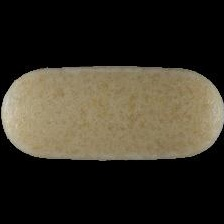0088-1090: (0, 0, 224, 224)
